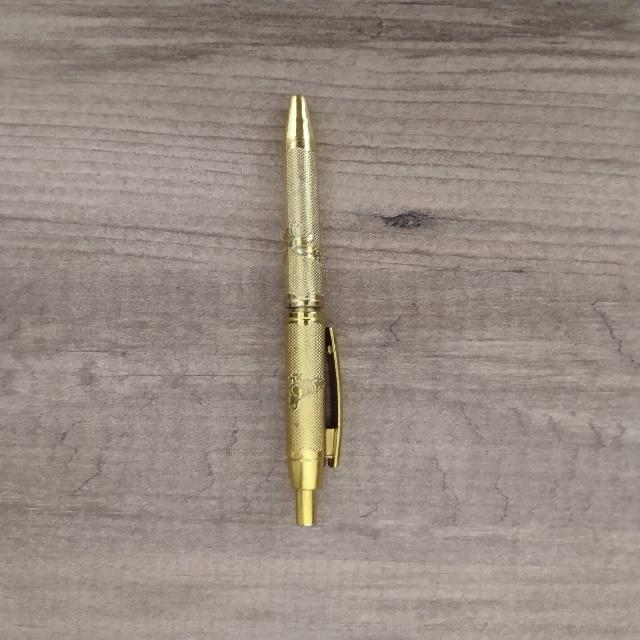signature pen: (284, 95, 341, 525)
